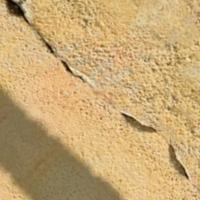crack: (0, 0, 199, 192)
